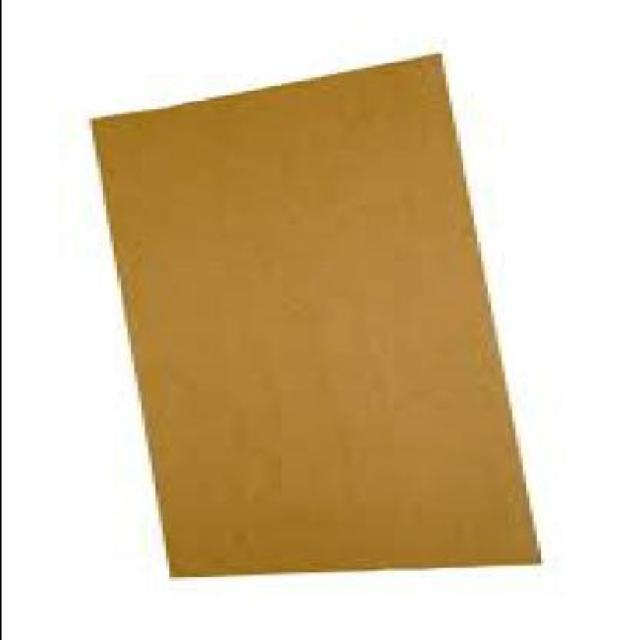CARDBOARD: (88, 52, 538, 574)
